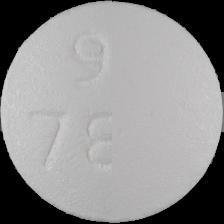54868-4287: (0, 0, 224, 224)
